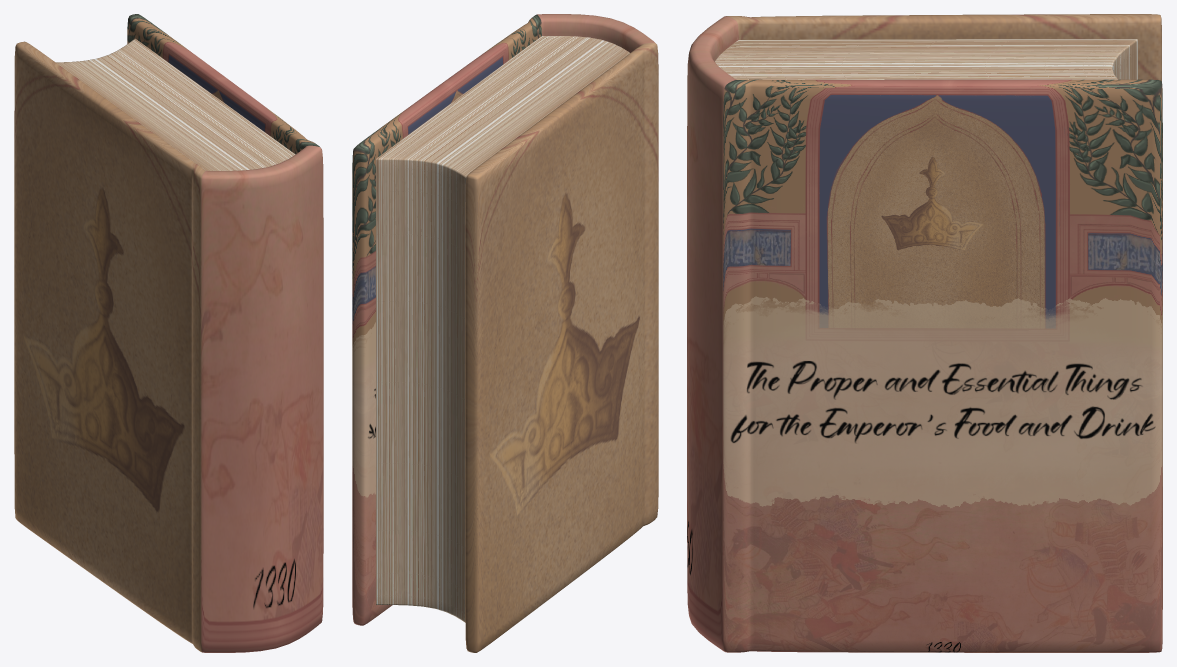
The model's file is book-6.glb.
3 views of the same model, side by side, from view 1: azimuth 30°, elevation 25°; view 2: azimuth 150°, elevation 25°; view 3: azimuth 270°, elevation 25° (orthographic). The views are drawn at different scales.
Visible parts, largest first — view 1: Emperors food and drink, Book Pages.006; view 2: Emperors food and drink, Book Pages.006; view 3: Emperors food and drink, Book Pages.006.
Part boxes in pixels (x1,y1,x2,y2): Emperors food and drink: (14,14,323,652); Book Pages.006: (56,38,295,170); Emperors food and drink: (352,14,658,652); Book Pages.006: (376,36,629,622); Emperors food and drink: (687,14,1162,652); Book Pages.006: (715,39,1137,79).
Size of the model in its own units: 0.2944 by 1.05 by 0.793.
Materials: 2 (2 with a texture image).
